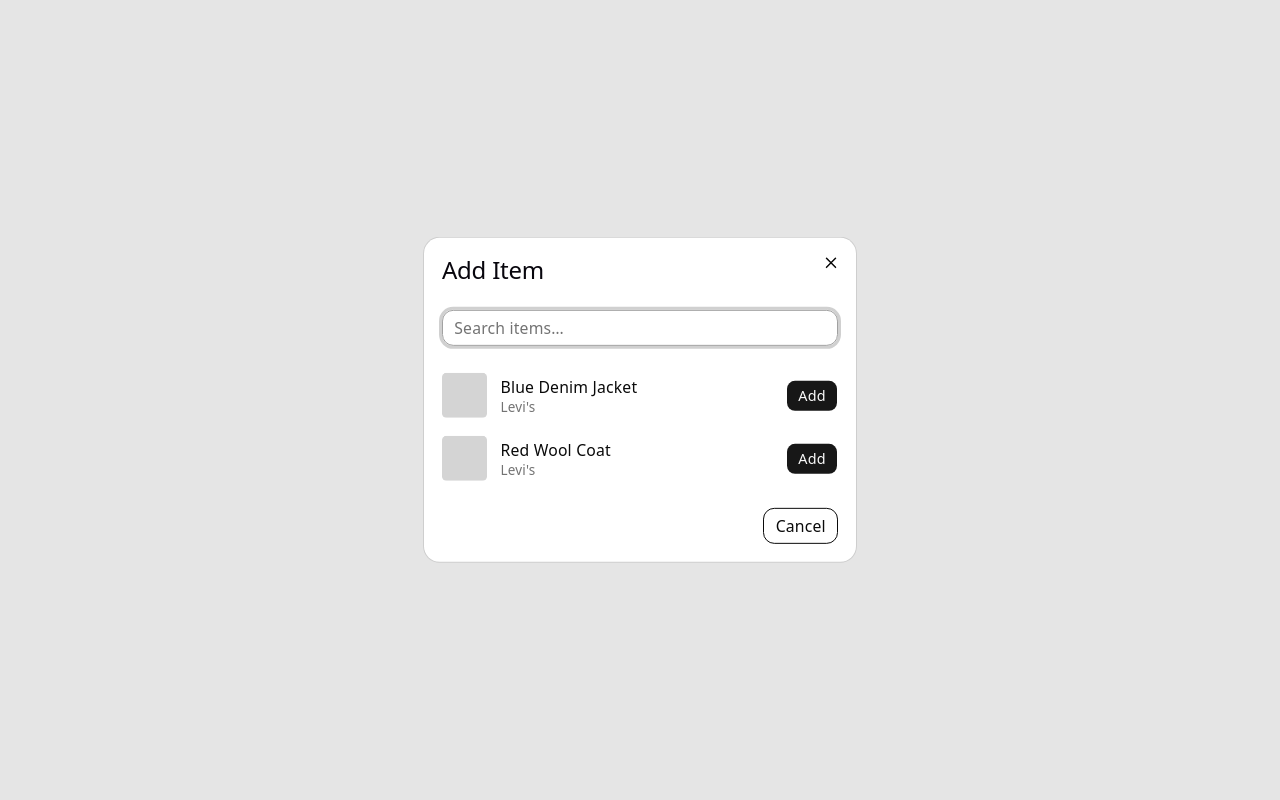
Test: ItemPicker › ItemPicker should filter items by search query case-insensitively on name and brand
This screenshot has width=1280, height=800.
Expected: the text "Blue Denim Jacket" is shown, top-left (500, 375), bottom-right (637, 397)
Type "red" into the field with placeholder "Search items…".
click(640, 328); type("red")  # box top-left (442, 310), bottom-right (838, 346)
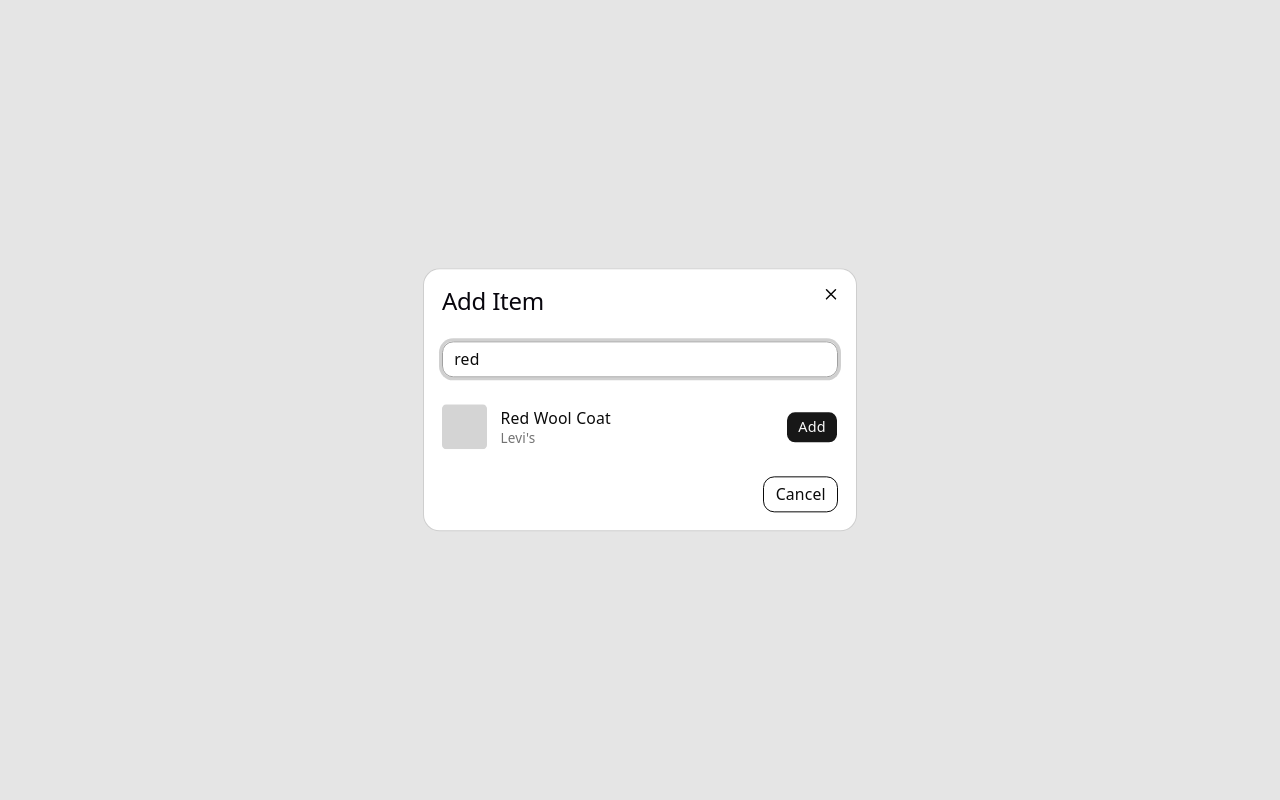
Expected: the text "Red Wool Coat" is shown, top-left (500, 407), bottom-right (611, 429)
Expected: the text "Blue Denim Jacket" is gone
